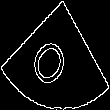O_NE: (30, 22, 80, 88)
